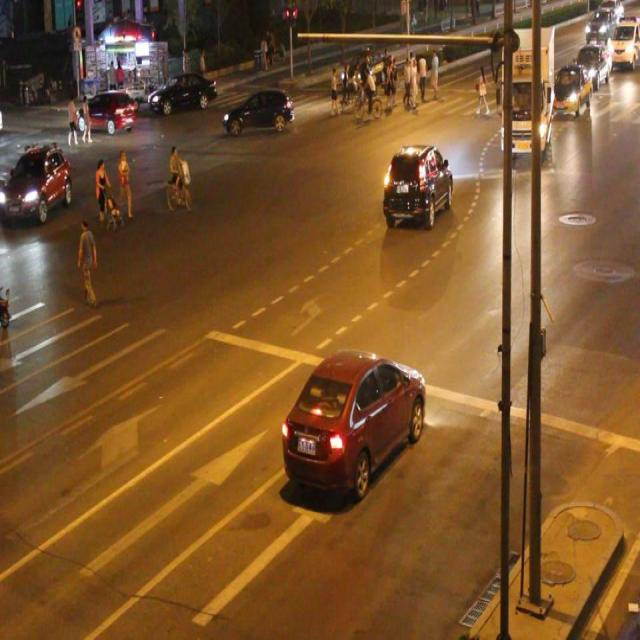bus: (500, 24, 555, 156)
car: (284, 346, 424, 495), (382, 144, 454, 225), (0, 145, 72, 221), (223, 90, 293, 133), (149, 72, 217, 108), (78, 91, 135, 132)
